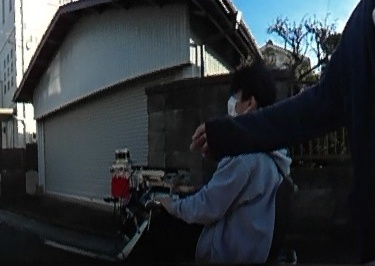person: (173, 63, 279, 266)
